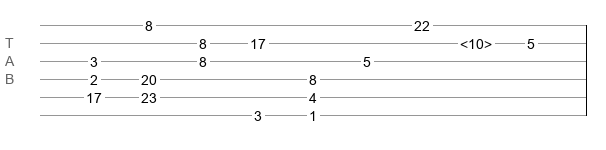1: (309, 108, 317, 118)
17: (86, 90, 102, 100), (250, 36, 266, 46)
2: (90, 72, 98, 82)
20: (141, 72, 157, 82)
22: (414, 18, 430, 28)
23: (141, 90, 157, 100)
3: (90, 54, 98, 64), (254, 108, 262, 118)
4: (309, 90, 317, 100)
5: (363, 54, 371, 64), (527, 36, 535, 46)
8: (145, 18, 153, 28), (199, 36, 207, 46), (199, 54, 207, 64), (309, 72, 317, 82)
harmonic: (460, 36, 492, 46)
